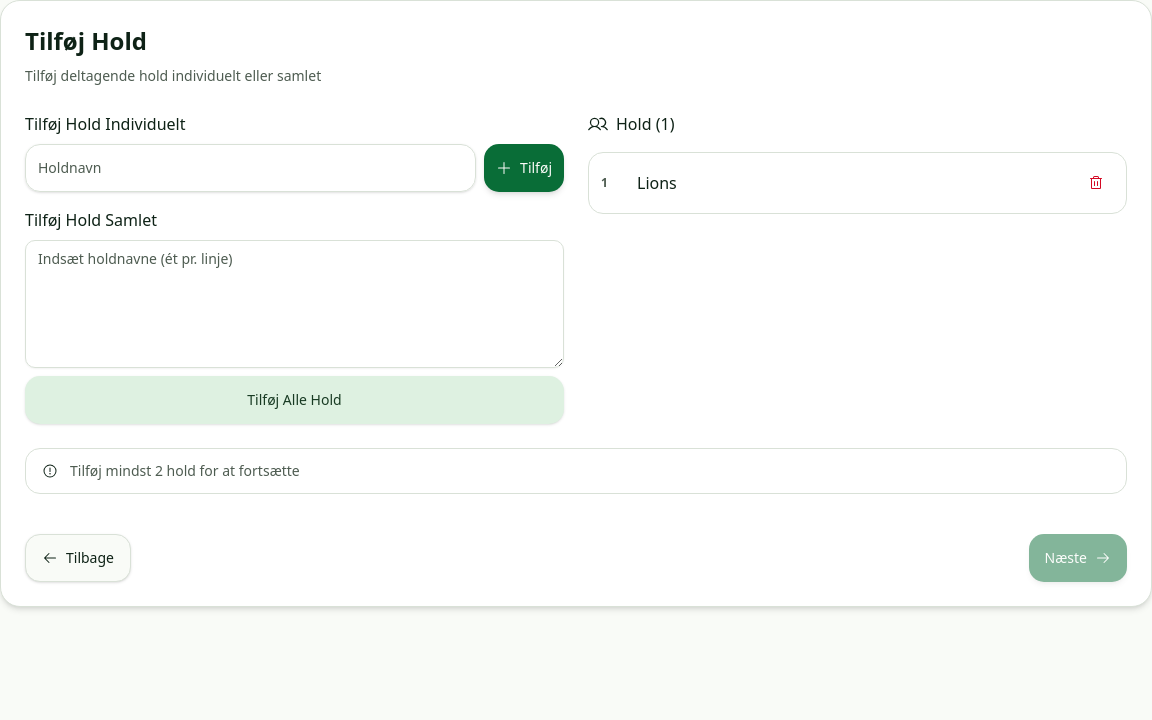
Test case: Step2Teams › rejects duplicate team names case-insensitively
Step 1. Type "LIONS" into the field labelled "Tilføj Hold Individuelt" → (251, 168), box x1=25 y1=144 x2=476 y2=192
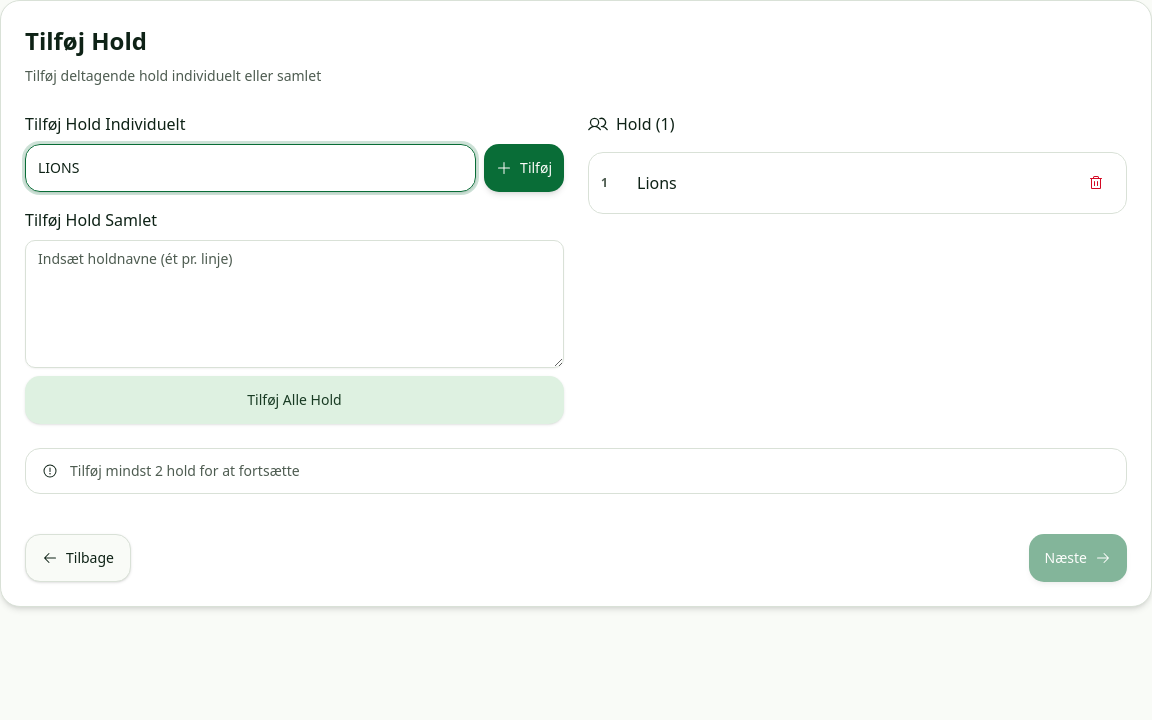
Step 2. Click the button "Tilføj" → (524, 168), box x1=484 y1=144 x2=564 y2=192
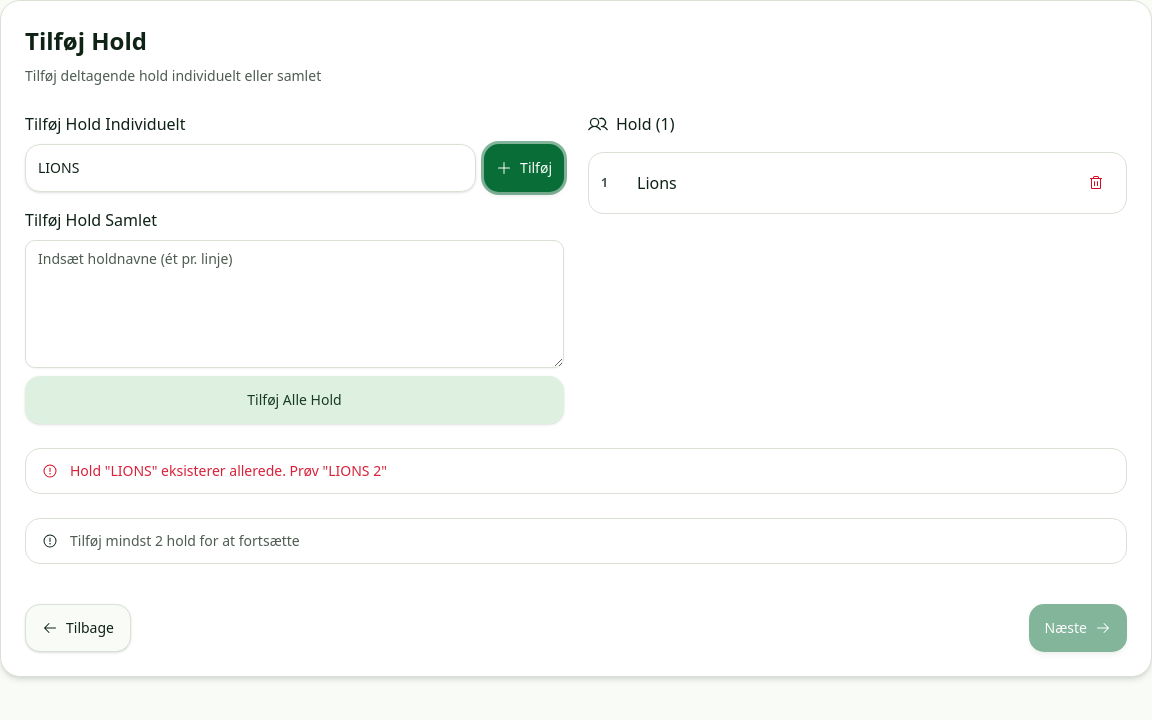
Expected: the text "Hold (1)" is shown, x1=588 y1=112 x2=674 y2=136
Result: the text "Hold \"LIONS\" eksisterer allerede. Prøv \"LIONS 2\"" is shown at x1=70 y1=461 x2=387 y2=480
